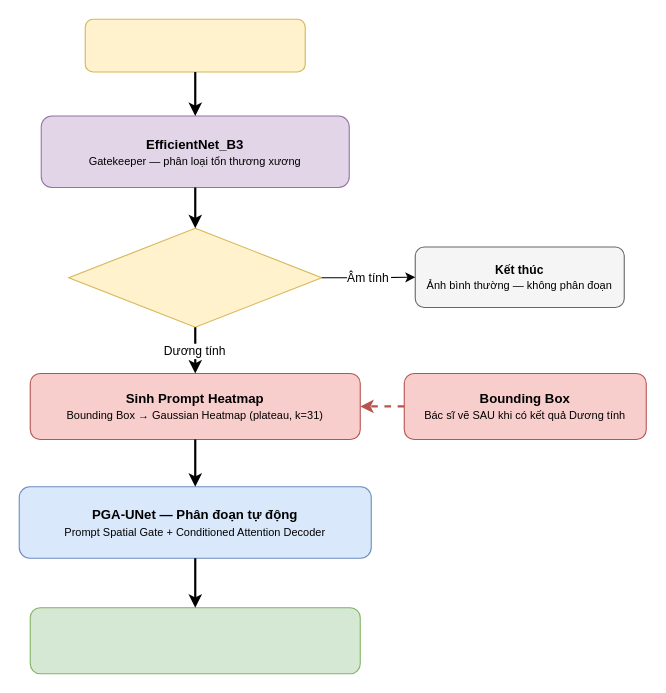
Image size: 666x693. Some labels were removed from this diagram. The centre of each missing label's shape, as x and y in pixels:
"Output: Mặt nạ phân đoạn Binary Mask — hiển thị trên Gradio UI" belongs at [194,640].
"Âm tính hay Dương tính?" belongs at [195,277].
"Ảnh X-quang" belongs at [194,45].
